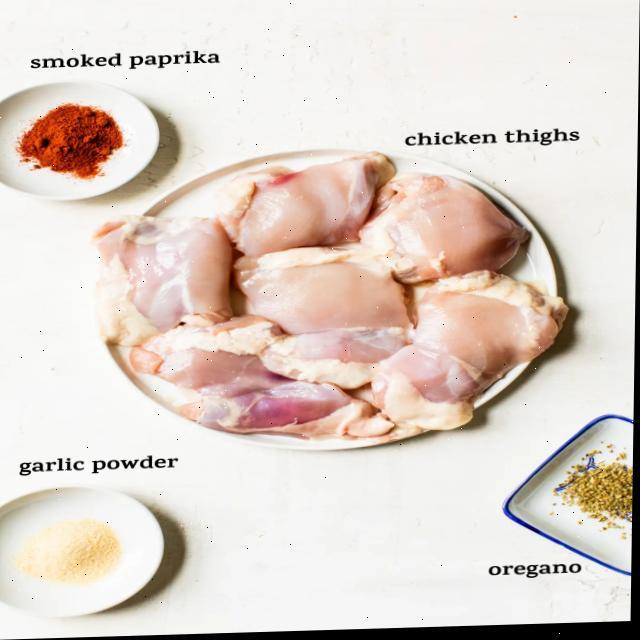thigh: (366, 274, 558, 434), (87, 202, 234, 344), (234, 254, 420, 342), (379, 177, 509, 283), (234, 166, 398, 246)
